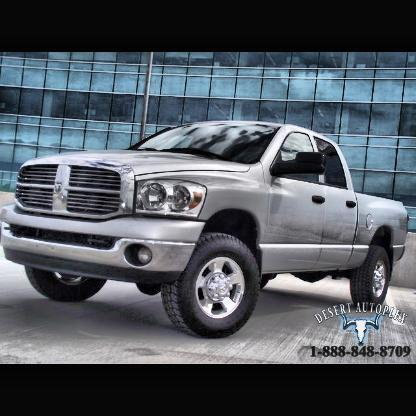Dodge Ram Pickup 3500 Quad Cab 2009: (2, 120, 412, 341)
